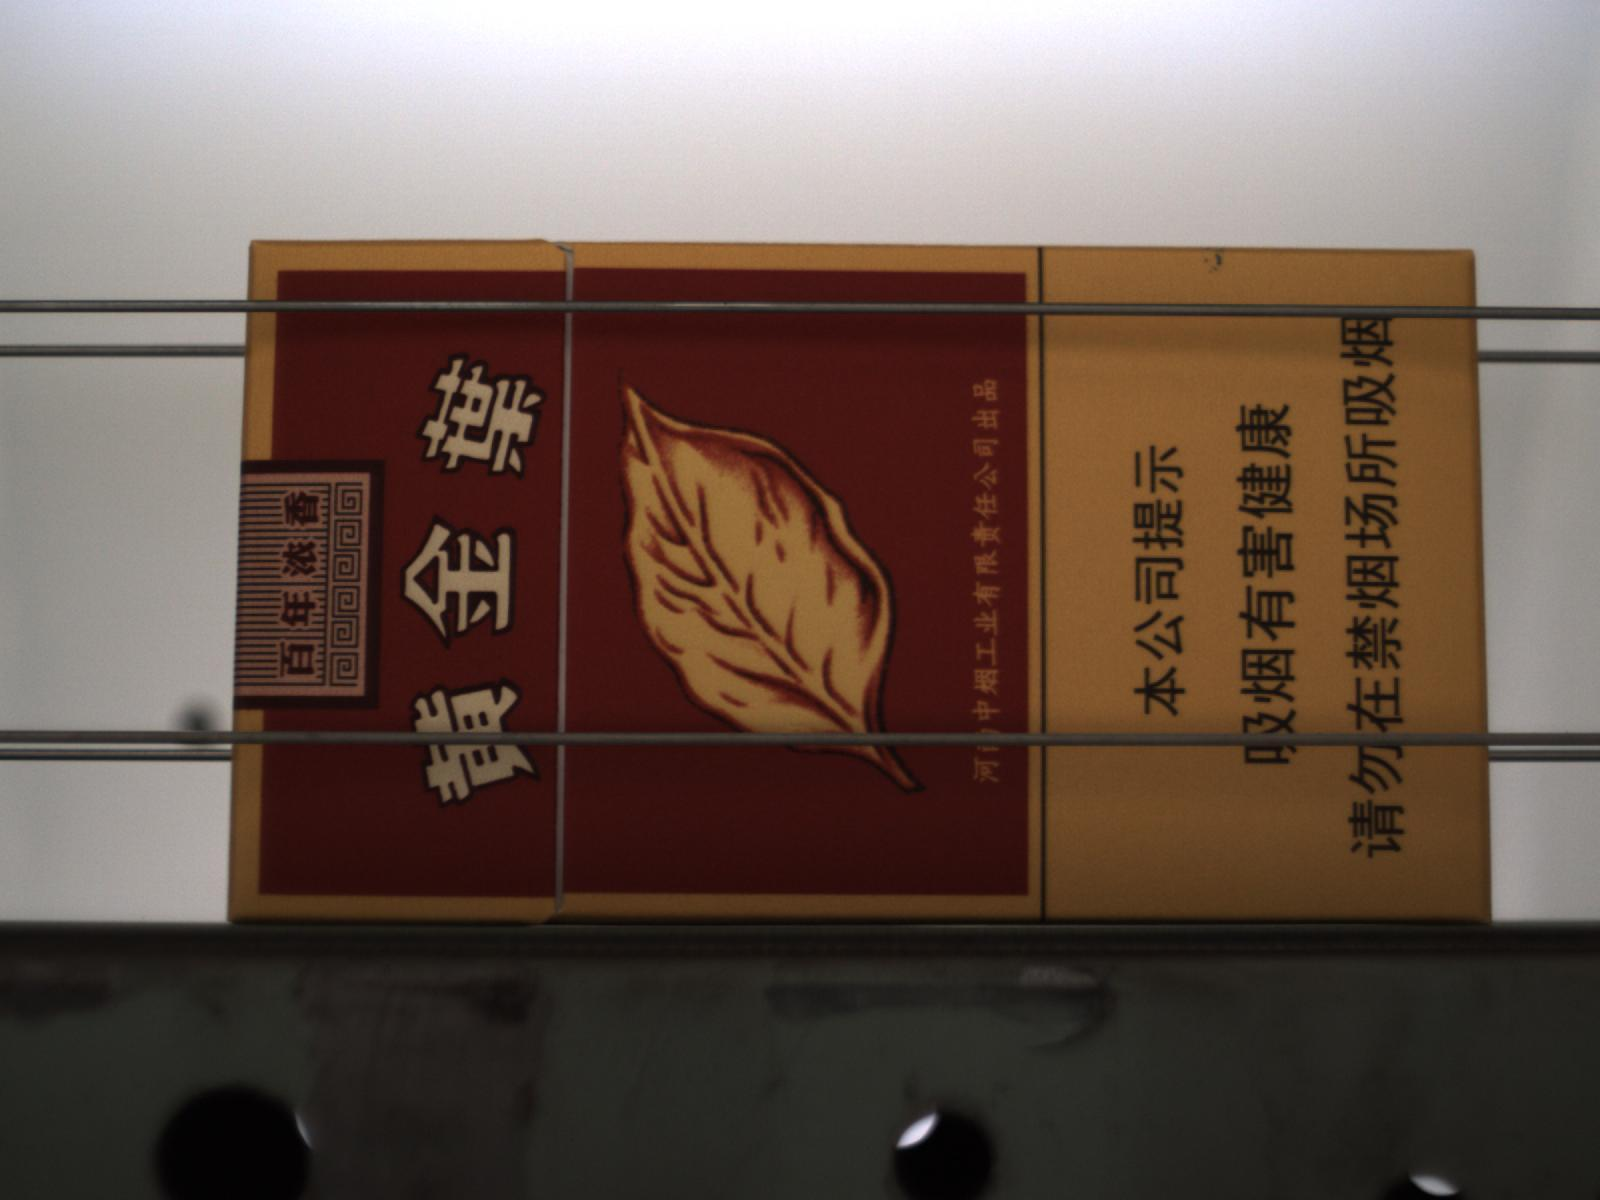gumDirt: (1201, 250, 1223, 272)
